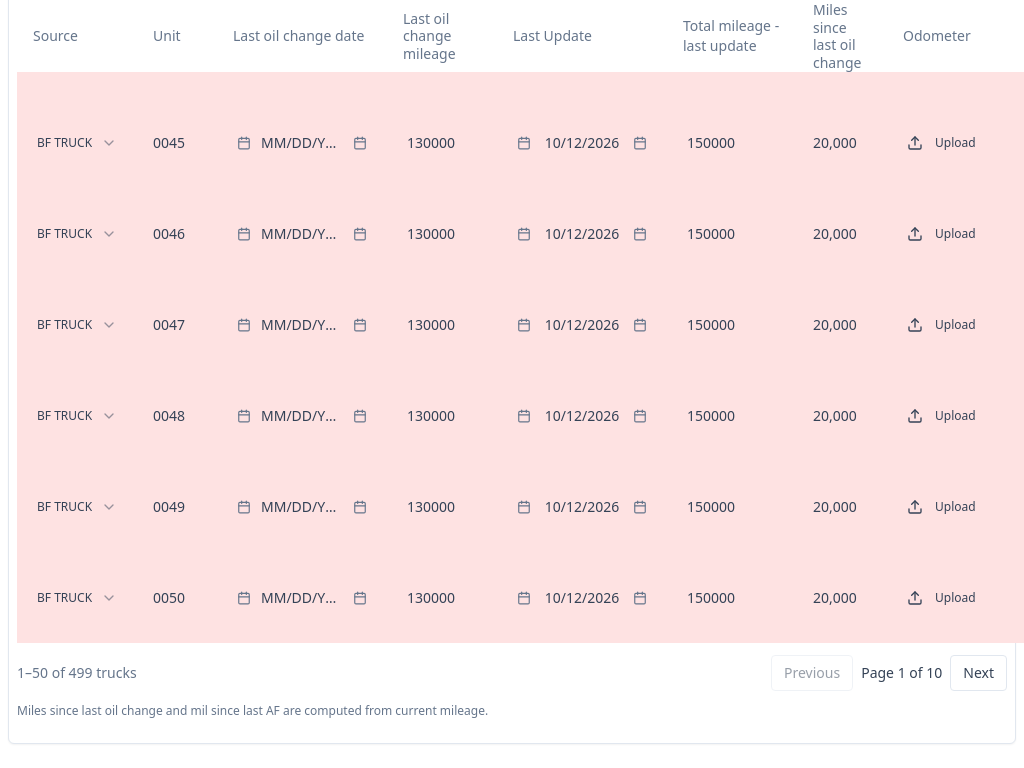
it: mounts at most 50 truck rows and searches the full fleet beyond the first page
(page scrolled)
Expected: the text "1–50 of 499 trucks" is shown, left=17, top=663, right=137, bottom=683
Expected: the text "Page 1 of 10" is shown, left=861, top=663, right=942, bottom=683
Click the button "Next". click: (979, 673)
box: left=950, top=655, right=1007, bottom=691
(page scrolled)
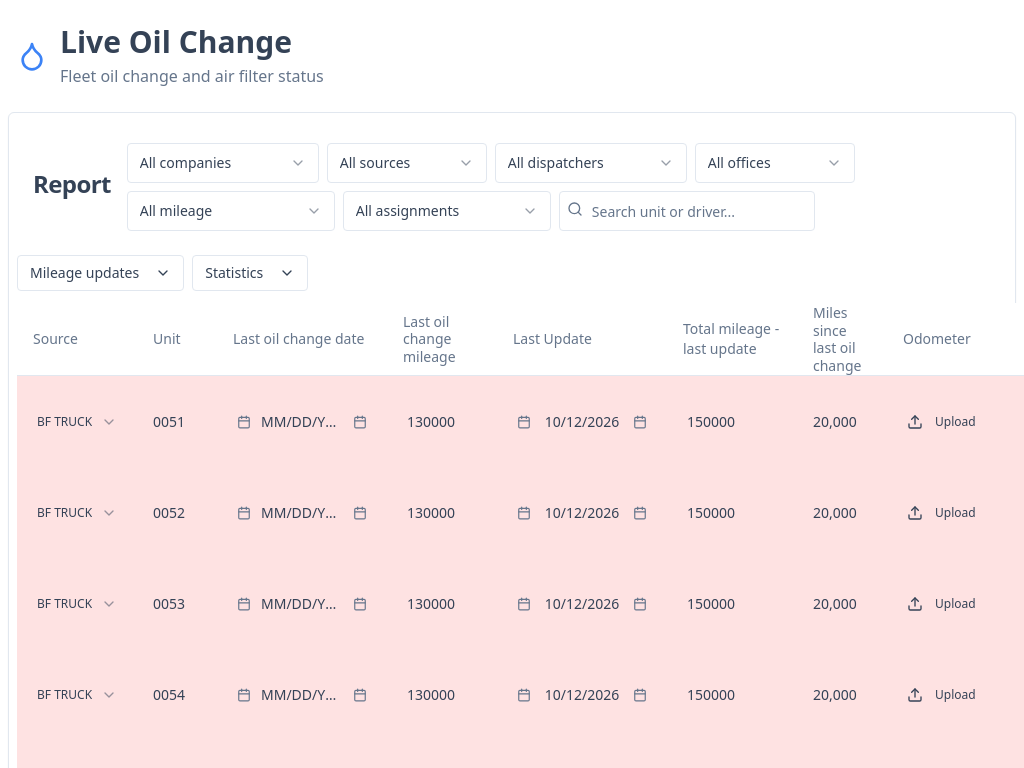
Expected: the link named "Open service log for truck 0051" is shown, left=153, top=412, right=185, bottom=430
Type "0499" into the field with placeholder "Search unit or driver...". click: (687, 211)
box: left=559, top=191, right=815, bottom=231
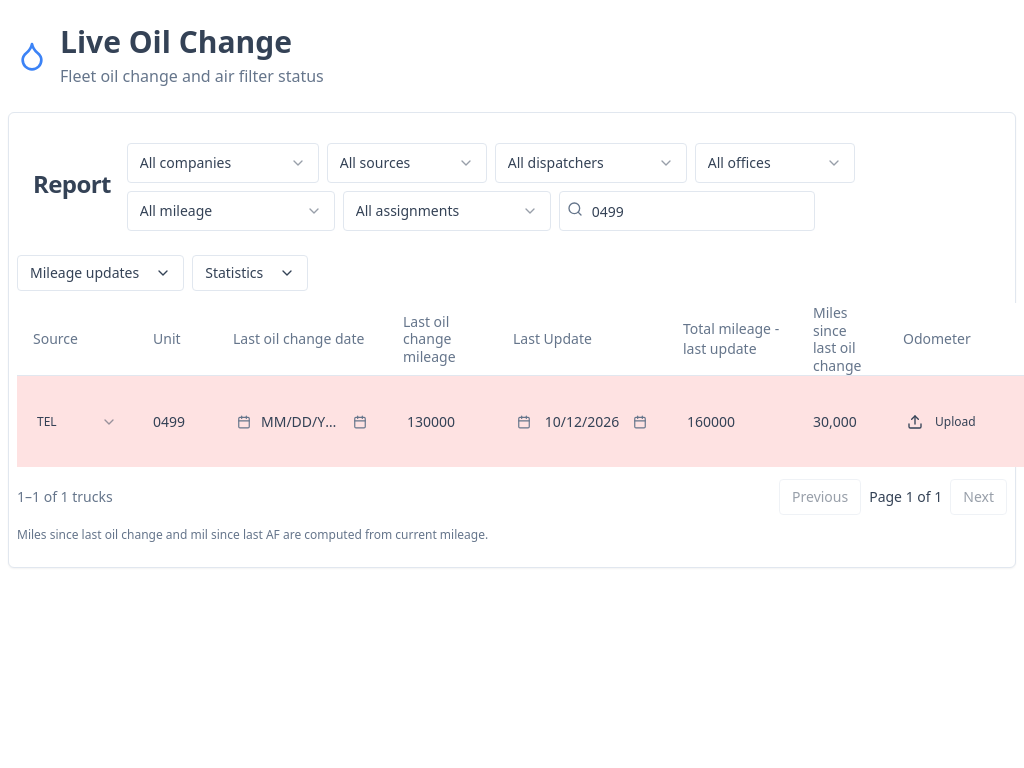
Expected: the text "1–1 of 1 trucks" is shown, left=17, top=487, right=113, bottom=507
Expected: the number of links named "Open service log" is 1, left=153, top=412, right=185, bottom=430
